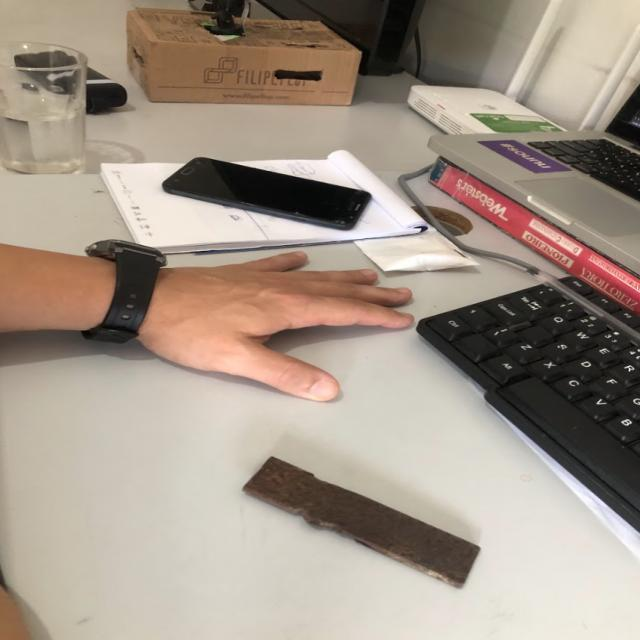Corrosion: (243, 456, 483, 590)
